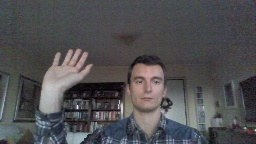Mano_aperta: (41, 46, 94, 94)
